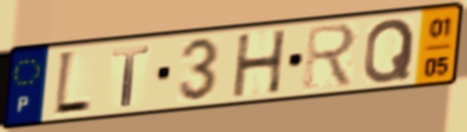3: (176, 35, 223, 104)
H: (231, 27, 290, 100)
L: (51, 48, 94, 119)
Q: (360, 16, 418, 86)
R: (301, 21, 360, 91)
T: (110, 43, 152, 109)
